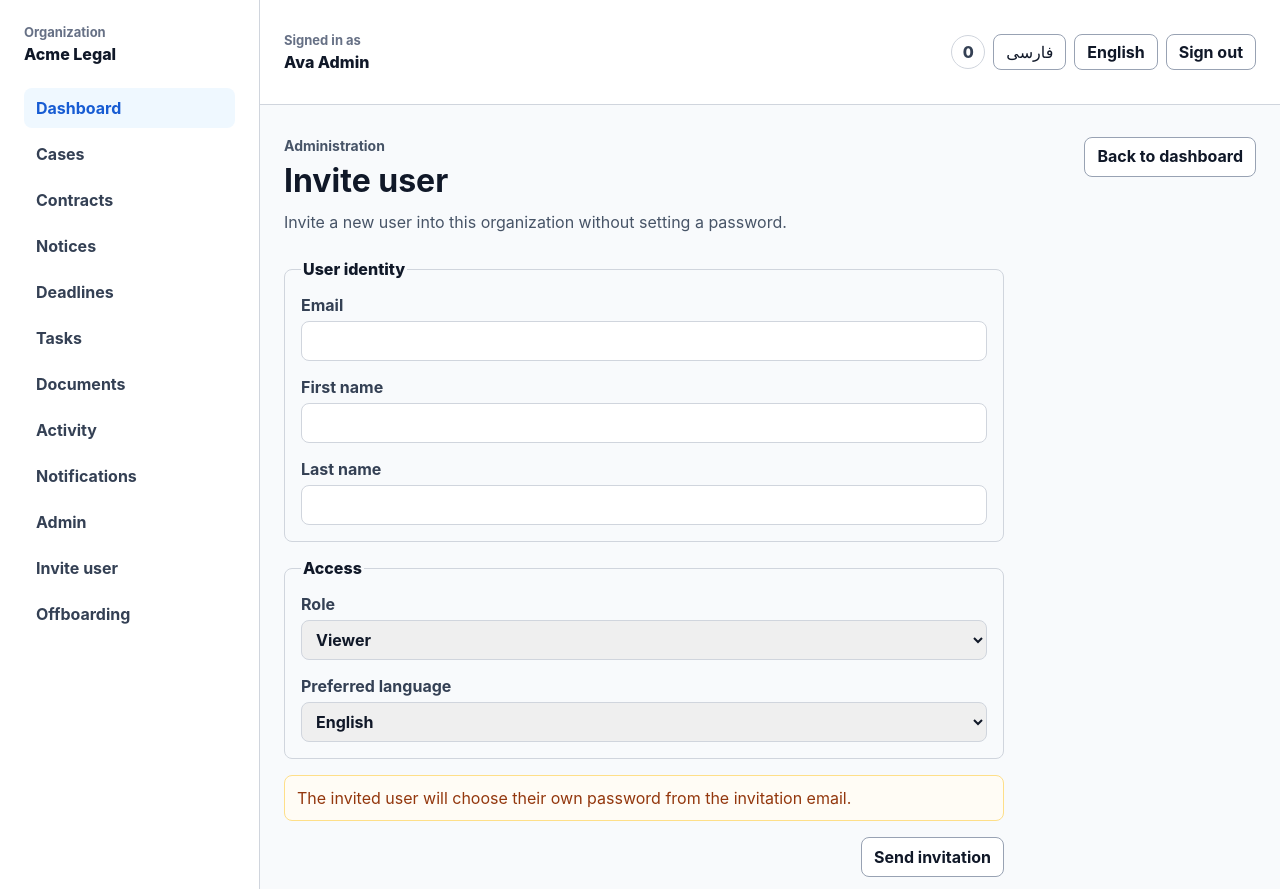
validates email before submitting
This screenshot has width=1280, height=889.
Type "not-an-email" into the field labelled "Email".
click(644, 341); type("not-an-email")  # box [301,321,987,361]
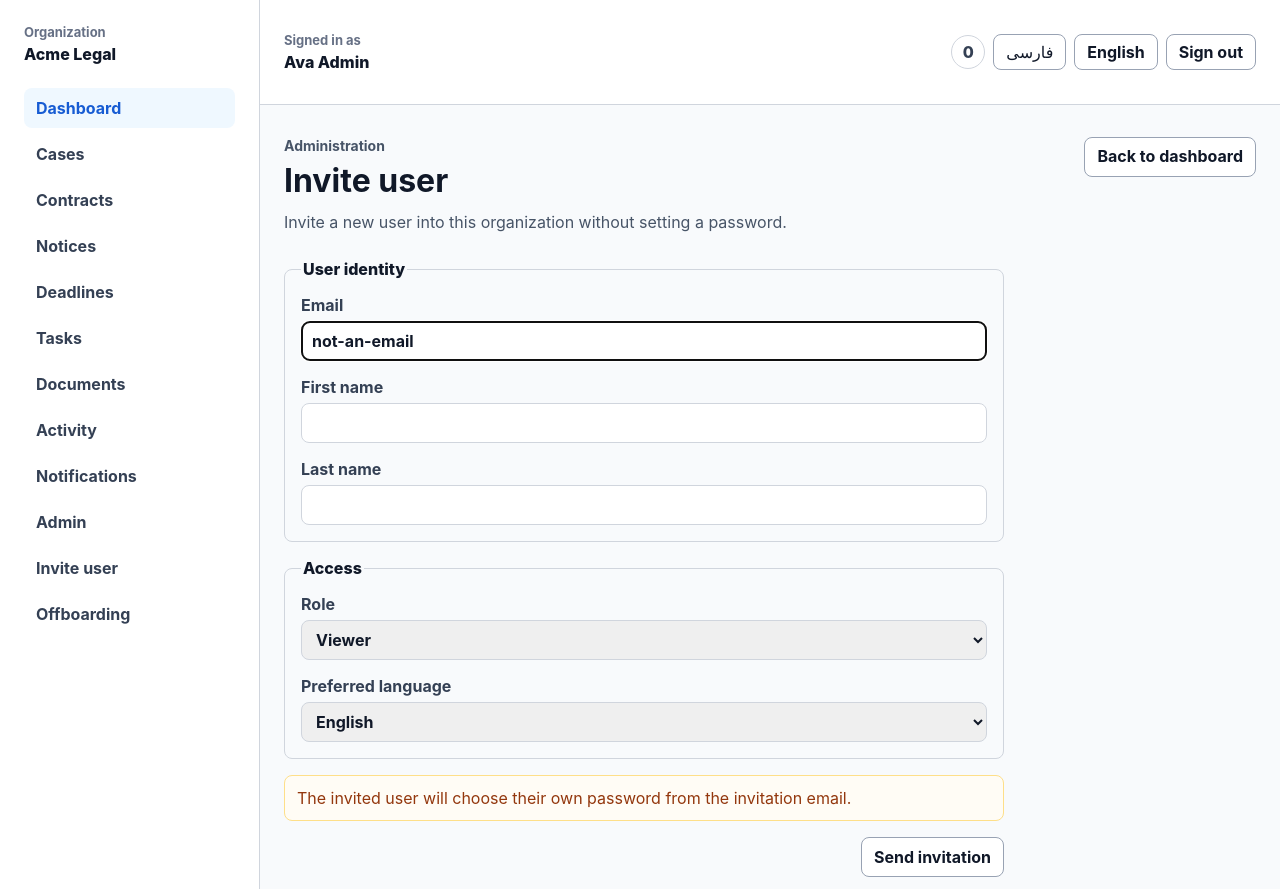
Click the button "Send invitation".
click(932, 857)  # box [861,837,1004,877]
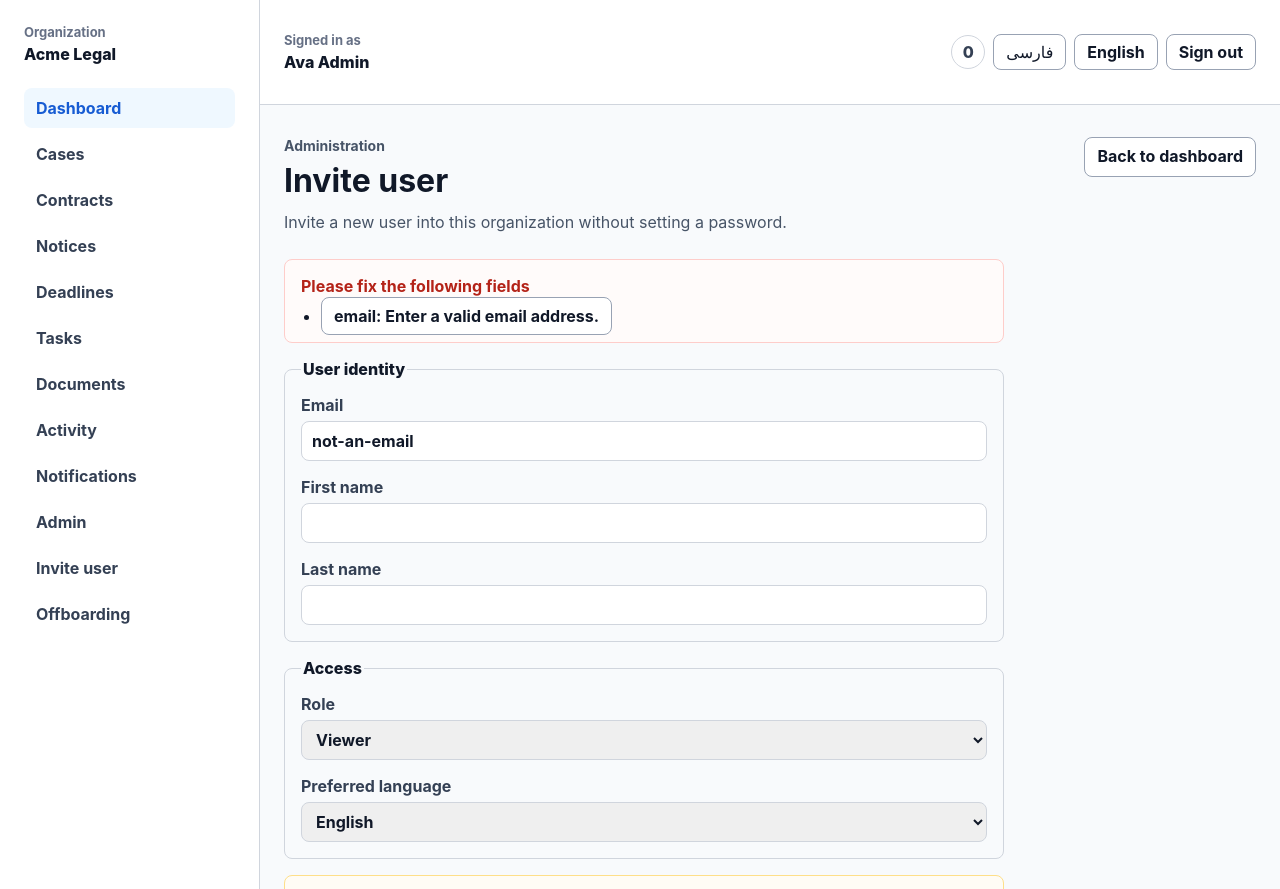
Result: the message shows "Enter a valid email address." at [321,297,612,335]
